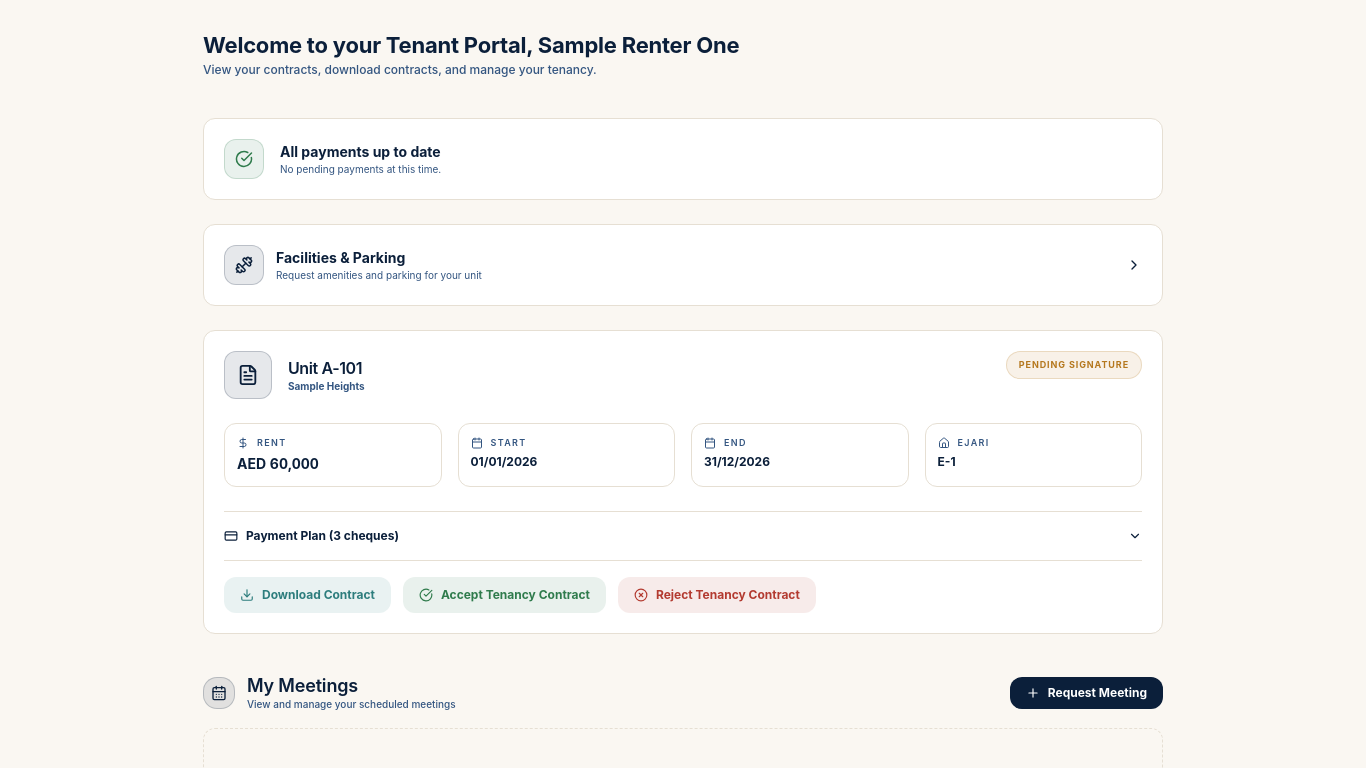
it: Renter payment plan — method column › renders each row's own translated mode, not a hardcoded CHEQUE
The width and height of the screenshot is (1366, 768).
The plan is the card a renter reads before signing.
Click the button "Payment Plan (3 cheques)". click: (286,535)
box: [224, 528, 1142, 544]
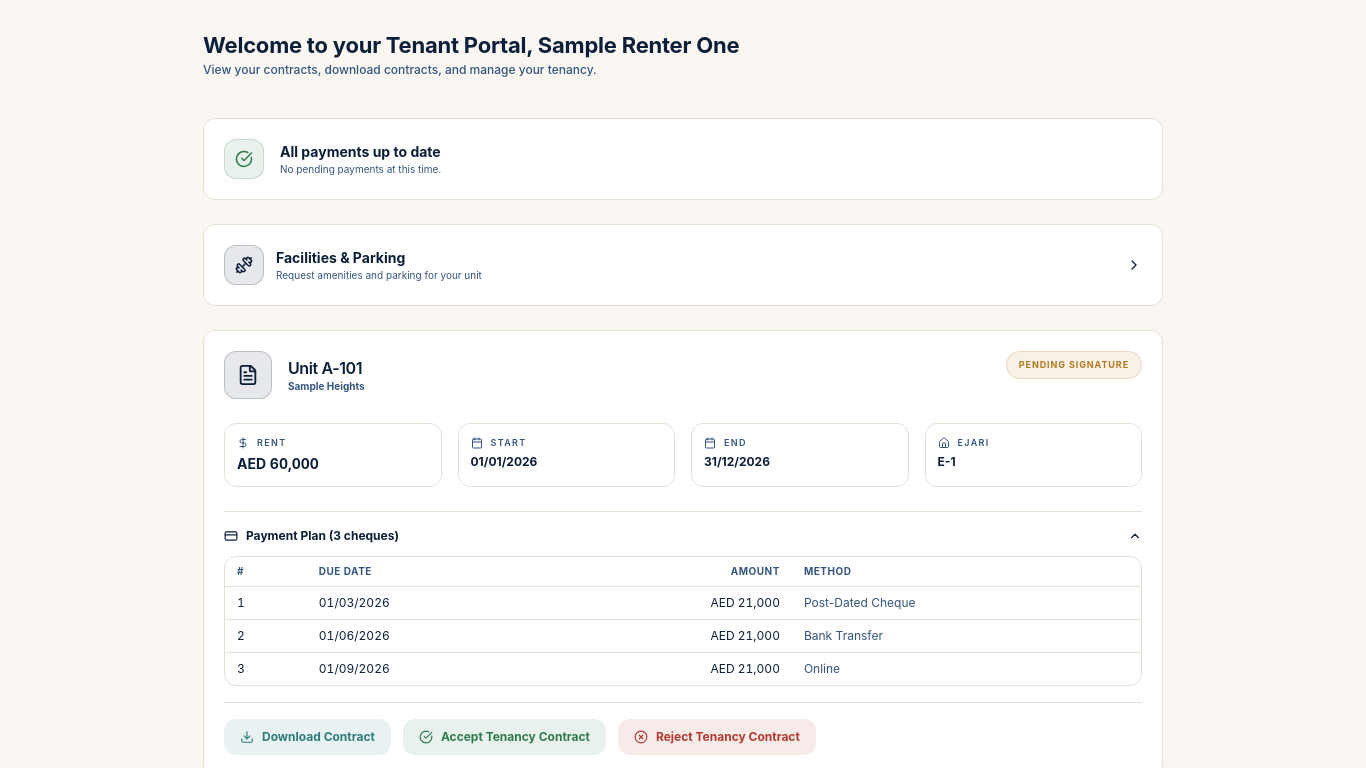
Result: the text "Post-Dated Cheque" is shown at [792, 587, 1141, 620]
Result: the text "Bank Transfer" is shown at [792, 620, 1141, 653]
Result: the text "Online" is shown at [792, 653, 1141, 685]
